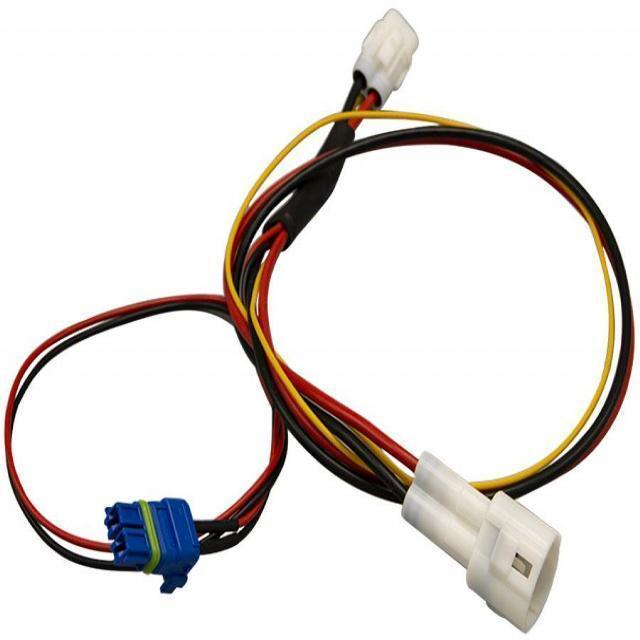connector: (403, 452, 560, 631), (104, 498, 200, 592), (353, 9, 418, 106)
